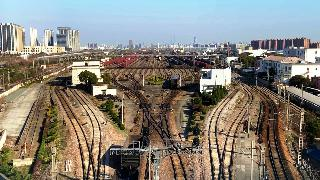train: (119, 134, 146, 167), (171, 74, 179, 88)
